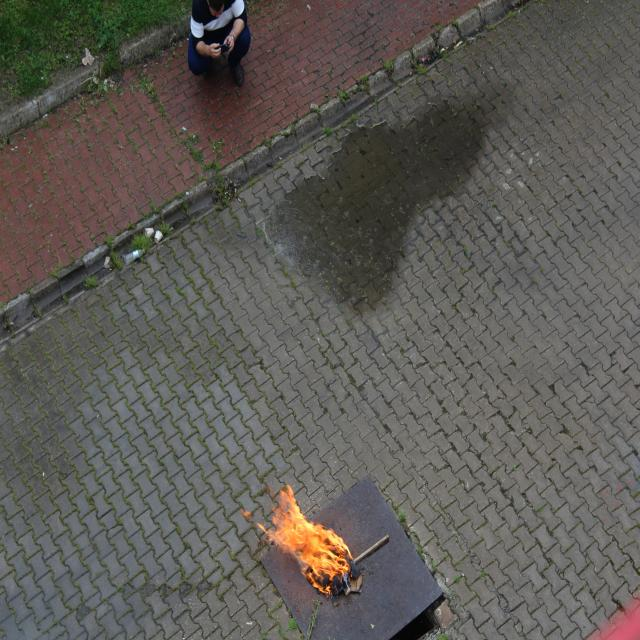fire: (243, 481, 364, 602)
